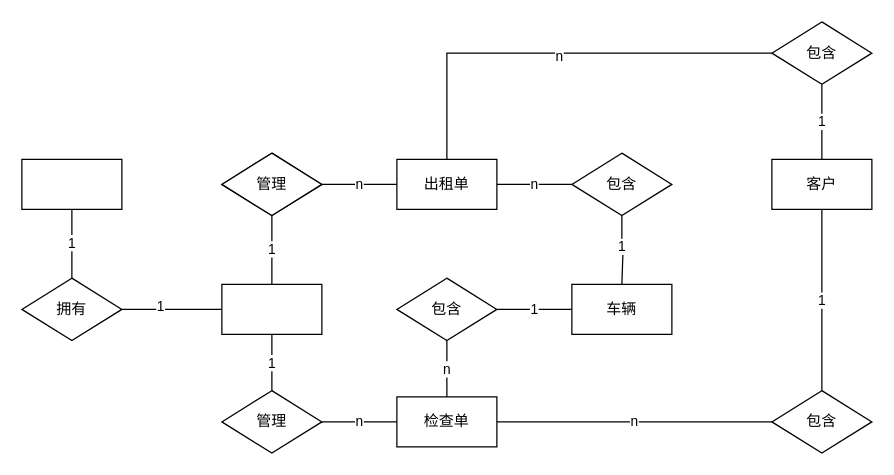
Image size: 894x475. Some labels were removed from this diagram. The centre of each missing label's shape, as x and y in pixels:
用户: point 271,308
角色: point 71,183
